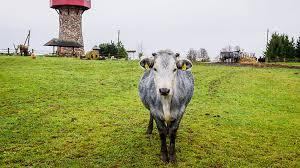cow: (138, 50, 195, 163)
